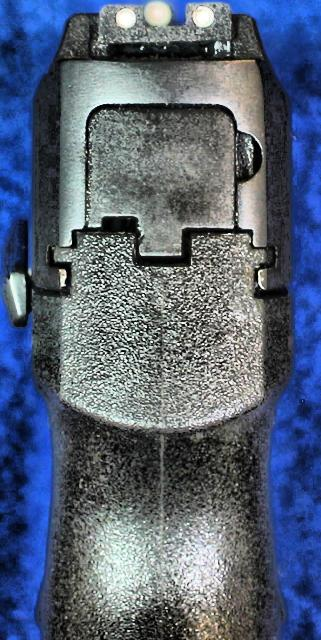pistol: (35, 1, 289, 635)
